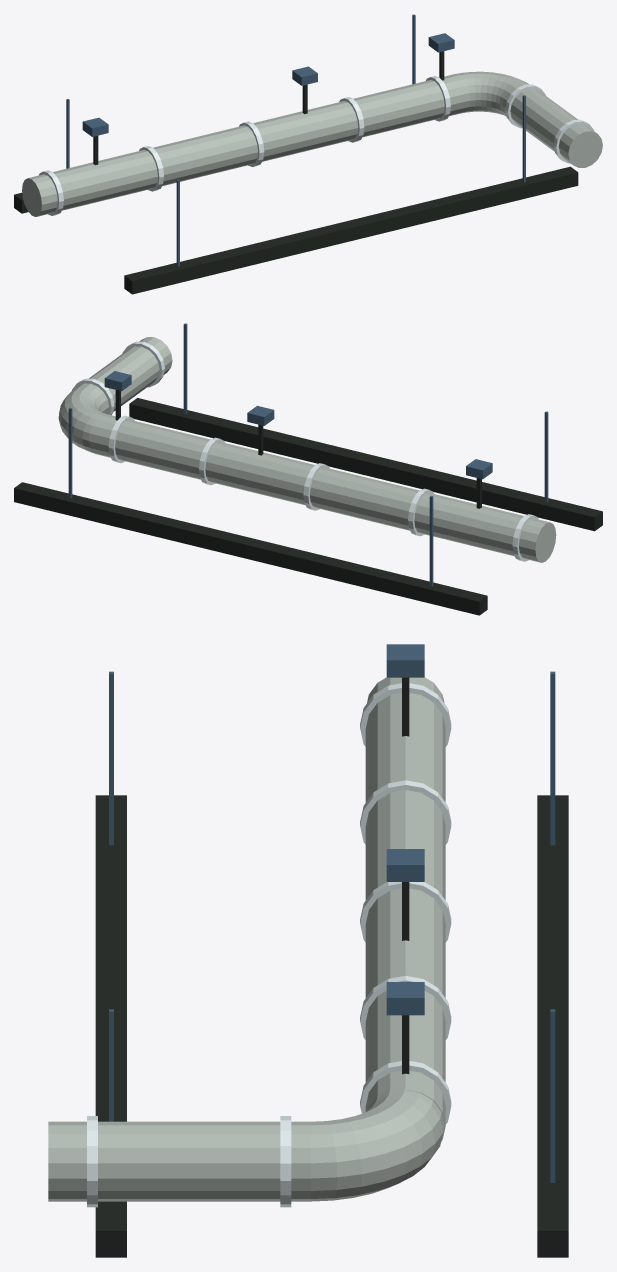
File: gh_ceiling_services_v01.glb
The picture shows the model from 3 angles, top to bottom: view 1: azimuth 30°, elevation 25°; view 2: azimuth 150°, elevation 25°; view 3: azimuth 270°, elevation 25°; orthographic projection. The views are drawn at different scales.
Parts seen in each view (by area): view 1: Exposed warehouse ceiling services; view 2: Exposed warehouse ceiling services; view 3: Exposed warehouse ceiling services.
Part boxes in pixels (bbox=[...]): Exposed warehouse ceiling services: bbox=[14, 14, 602, 294]; Exposed warehouse ceiling services: bbox=[14, 323, 602, 615]; Exposed warehouse ceiling services: bbox=[48, 644, 568, 1257].
Bounding box in the file's own units: 5.32 × 1.1 × 2.47.
1 material, 1 textured.
